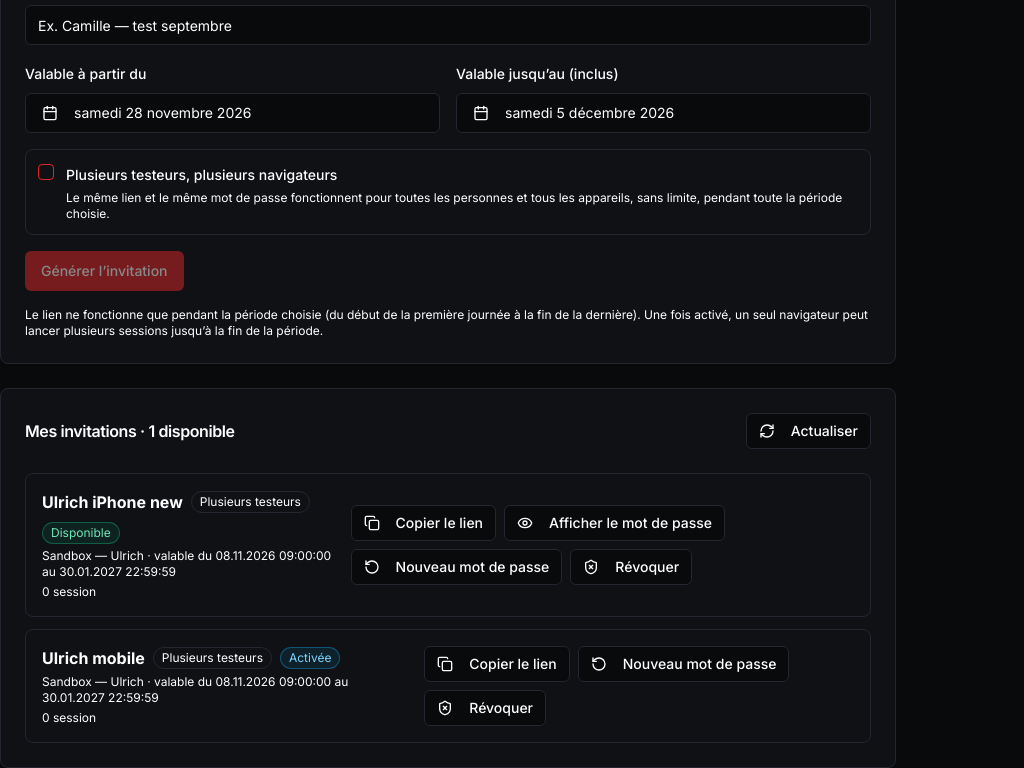
Test: TestInvitationsTab — recover a lost password › shows the link and password of an invitation whose password was kept
(page scrolled)
Click the button "Afficher le mot de passe" at (614, 523), box [504,505,725,541]
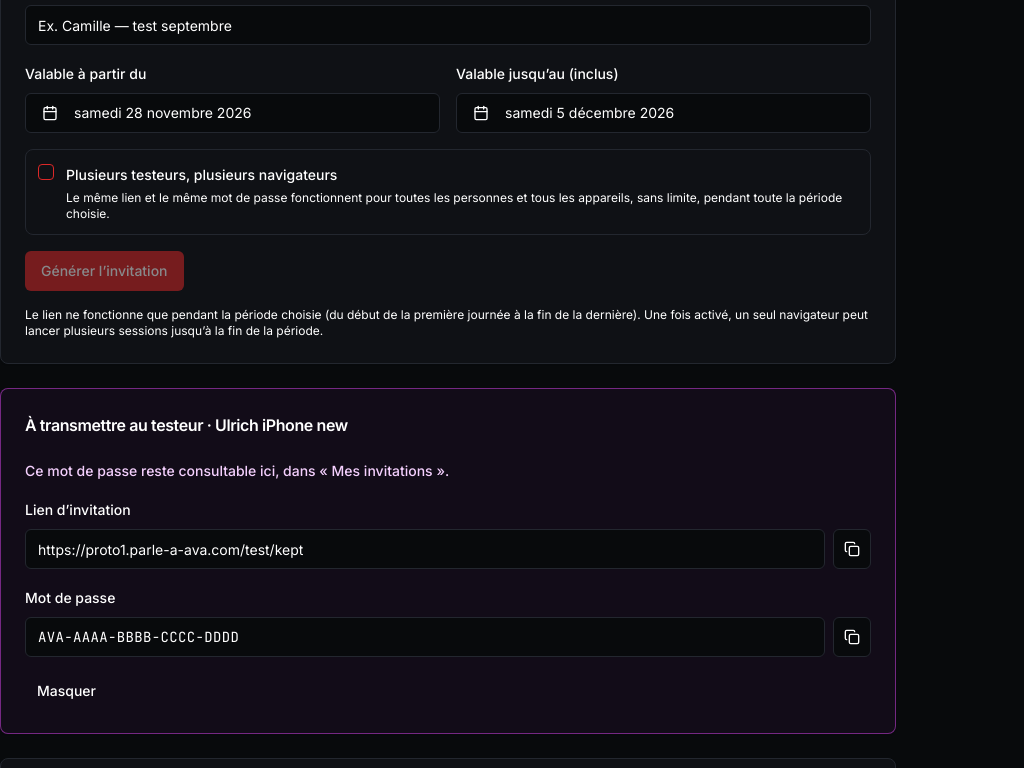
Now the 2nd field showing "AVA-AAAA-BBBB-CCCC-DDDD" is shown, box [25,617,825,657]
Now the field showing "https://proto1.parle-a-ava.com/test/kept" below "Lien d’invitation" is shown, box [25,529,825,569]
Now the text "À transmettre au testeur · Ulrich iPhone new" is shown, box [25,415,348,435]
